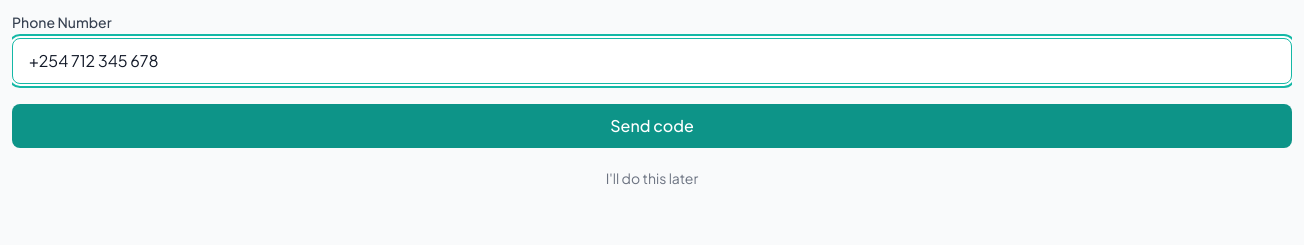
Scenario: the resend control › goes back to a running countdown after a resend
This screenshot has width=1304, height=245.
Click the button "Send code" at x=652, y=126, box [12, 104, 1292, 148]
Wait 60000 ms
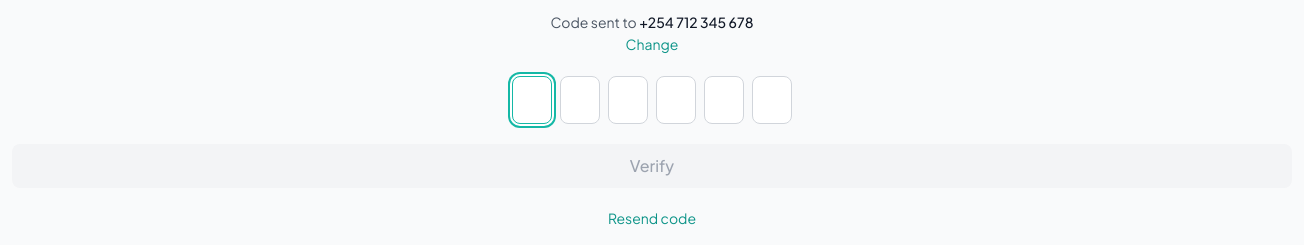
Expected: the button "Resend code" is shown
Click the button "Resend code" at x=652, y=218, box [608, 208, 696, 228]
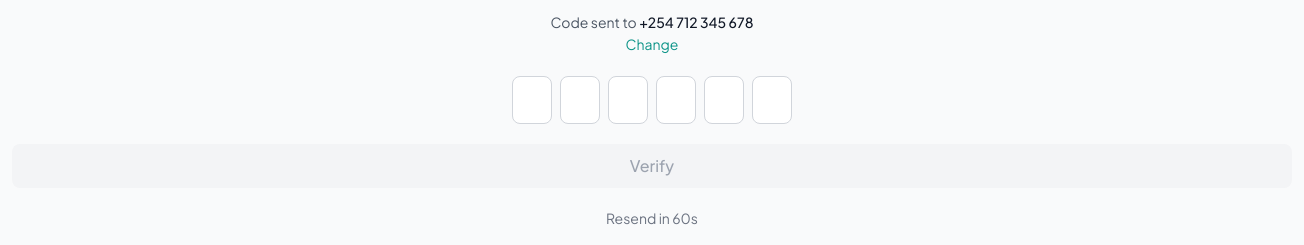
Expected: the text "Resend in 60s" is shown, [606, 209, 698, 227]
